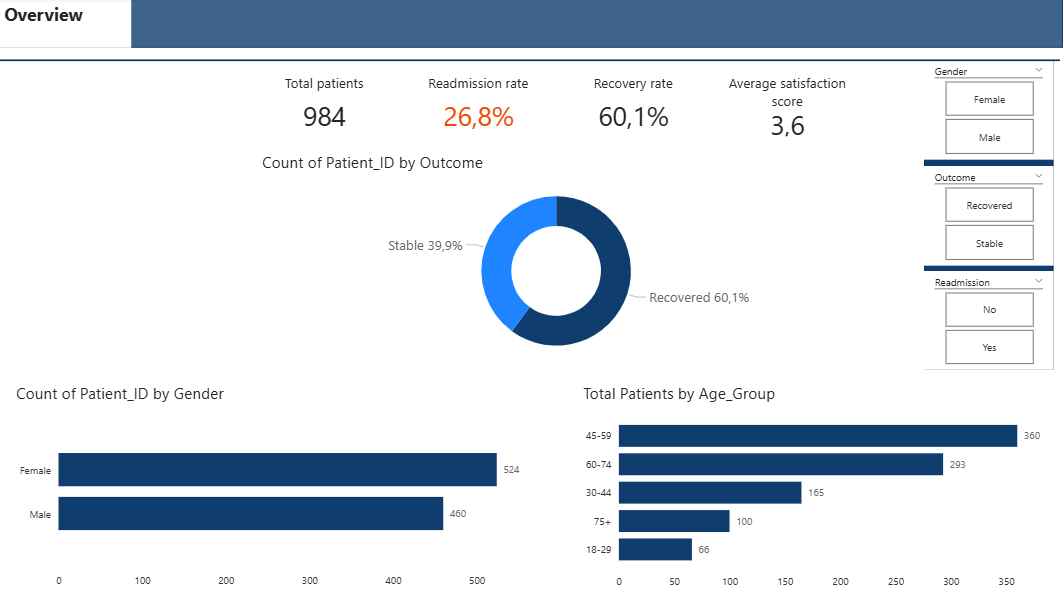

What the dashboard file says about the page in this screenshot:
{"tool":"powerbi","page":{"name":"Overview","canvas":[1280,720],"ordinal":0},"visuals":[{"type":"shape","box":[1112.2,74.6,155.8,372.9],"z":0},{"type":"shape","box":[0,0,1280,59.8],"z":1000},{"type":"textbox","box":[0,0,158.2,59.8],"z":2000},{"type":"card","title":"Total patients","fields":{"Values":["_Measures.Total Patients"]},"box":[310.3,91.9,159.8,79.9],"z":3000},{"type":"card","title":"Readmission rate","fields":{"Values":["_Measures.Readmission Rate %"]},"box":[496.4,91.9,159.8,79.9],"z":4000},{"type":"card","title":"Recovery rate","fields":{"Values":["_Measures.Recovery Rate %"]},"box":[682.4,91.9,159.8,79.9],"z":5000},{"type":"card","title":"Average satisfaction score","fields":{"Values":["_Measures.Avg Satisfaction"]},"box":[868.4,91.9,159.8,79.9],"z":6000},{"type":"donutChart","fields":{"Series":["hospital data analysis.Outcome"],"Y":["CountNonNull(hospital data analysis.Patient_ID)"]},"box":[310.3,183.8,717.9,263.7],"z":7000},{"type":"clusteredBarChart","fields":{"Category":["hospital data analysis.Gender"],"Y":["CountNonNull(hospital data analysis.Patient_ID)"]},"box":[14.7,462.2,626,257.1],"z":8000},{"type":"clusteredBarChart","fields":{"Category":["hospital data analysis.Age_Group"],"Y":["_Measures.Total Patients"]},"box":[696.6,462.2,571.4,258.4],"z":9000},{"type":"slicer","fields":{"Values":["hospital data analysis.Gender"]},"box":[1112.2,74.6,155.8,119.9],"z":10000},{"type":"slicer","fields":{"Values":["hospital data analysis.Outcome"]},"box":[1112.2,201.8,155.8,119.9],"z":11000},{"type":"slicer","fields":{"Values":["hospital data analysis.Readmission"]},"box":[1112.2,329,155.8,118.5],"z":12000},{"type":"shape","box":[0,58.6,1276,32],"z":13000}]}

Visuals, with their boxes in screenshot pixels (x1, y1, x2, y2), scaled from the page's 1280x720 canvas onto the 1063x592 screenshot:
shape: bbox(924, 61, 1053, 368)
shape: bbox(0, 0, 1062, 49)
textbox: bbox(0, 0, 131, 49)
"Total patients" card: bbox(258, 76, 390, 141)
"Readmission rate" card: bbox(412, 76, 545, 141)
"Recovery rate" card: bbox(567, 76, 699, 141)
"Average satisfaction score" card: bbox(721, 76, 854, 141)
donutChart - hospital data analysis.Outcome x CountNonNull(hospital data analysis.Patient_ID): bbox(258, 151, 854, 368)
clusteredBarChart - hospital data analysis.Gender x CountNonNull(hospital data analysis.Patient_ID): bbox(12, 380, 532, 591)
clusteredBarChart - hospital data analysis.Age_Group x _Measures.Total Patients: bbox(579, 380, 1053, 591)
slicer - hospital data analysis.Gender: bbox(924, 61, 1053, 160)
slicer - hospital data analysis.Outcome: bbox(924, 166, 1053, 265)
slicer - hospital data analysis.Readmission: bbox(924, 271, 1053, 368)
shape: bbox(0, 48, 1060, 74)
